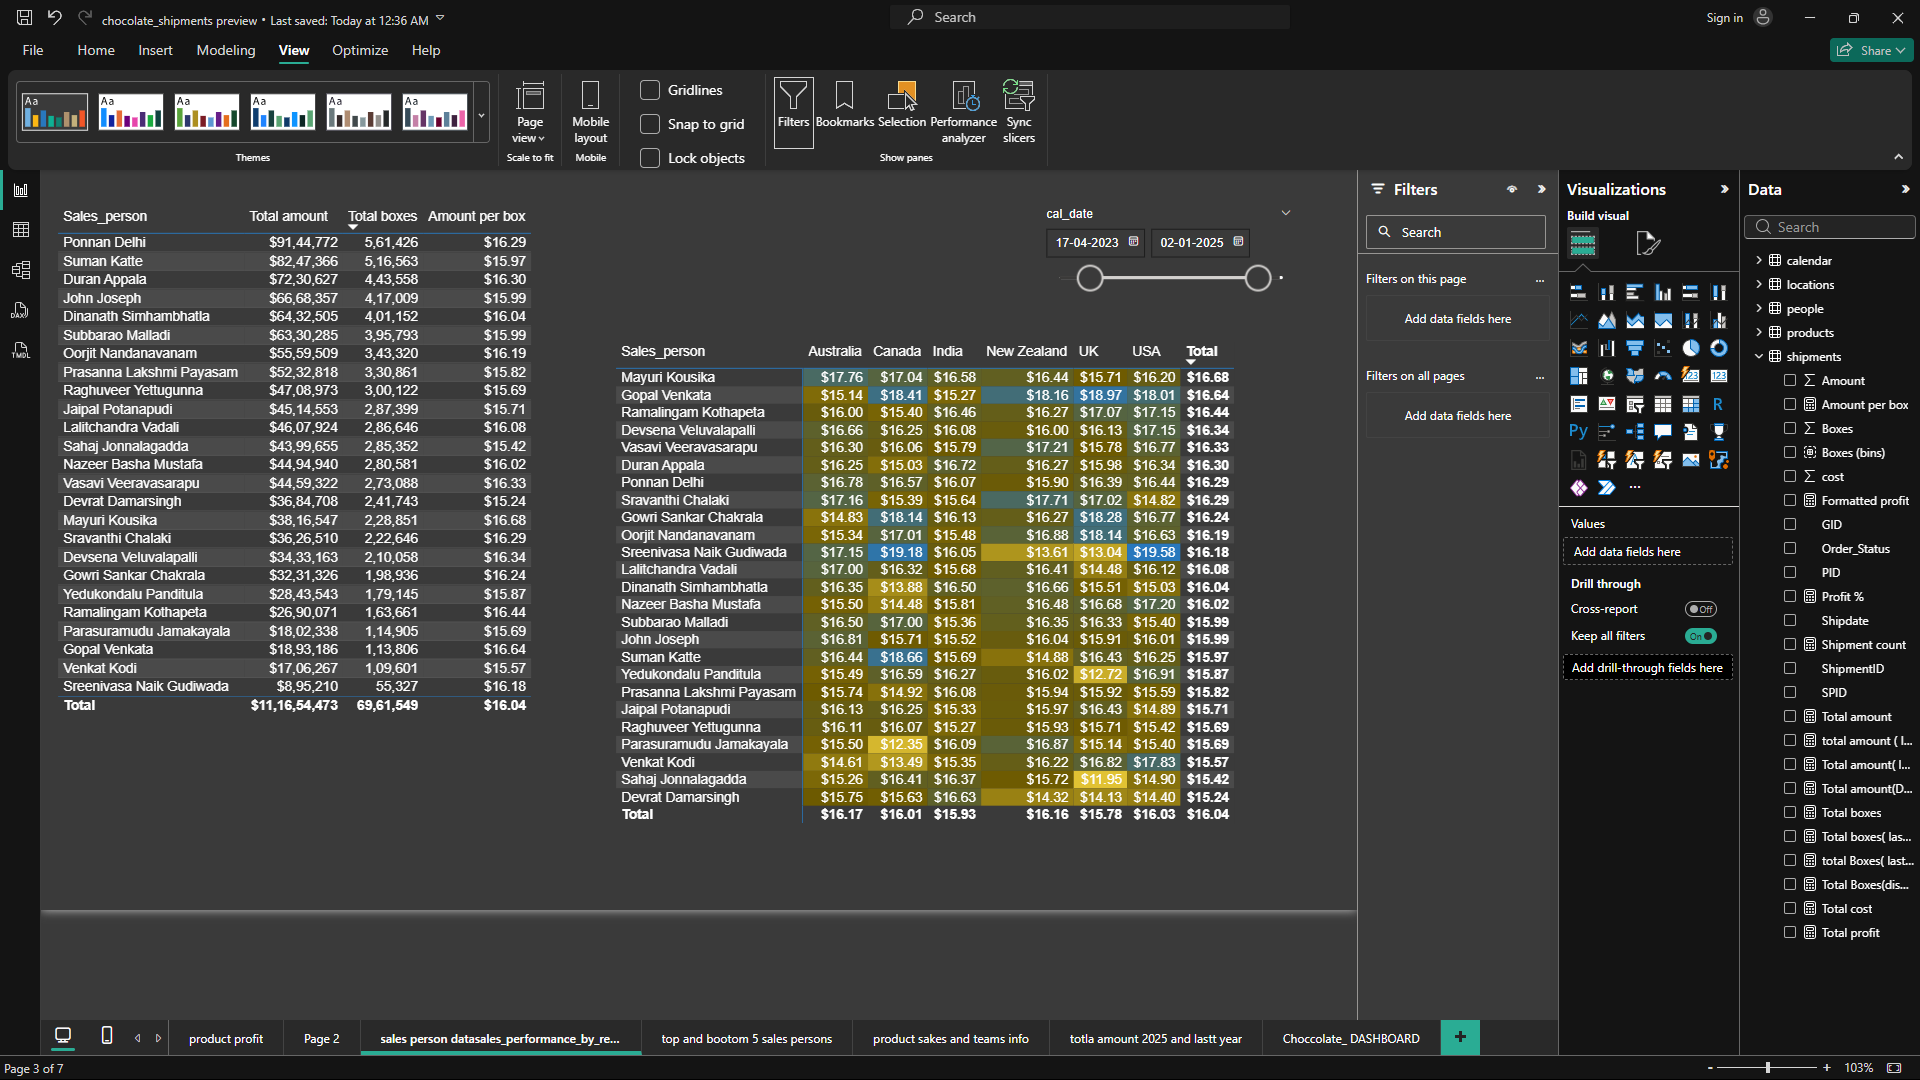

This screenshot's page, from the dashboard's own definition file:
{"tool":"powerbi","page":{"name":"Page 3","canvas":[1280,720],"ordinal":2},"visuals":[{"type":"tableEx","fields":{"Values":["people.Sales_person","shipments.Total amount","shipments.totoal boxes","shipments.Amount per box"]},"box":[10.7,31.1,524.3,508.7],"z":0},{"type":"pivotTable","fields":{"Rows":["people.Sales_person"],"Columns":["locations.Geo"],"Values":["shipments.Amount per box"]},"box":[541.8,31.1,463,524.3],"z":1000},{"type":"slicer","fields":{"Values":["calendar.cal_date"]},"box":[1041.7,67.1,238.3,170.2],"z":2000}]}

Visuals, with their boxes on the page's 1280x720 design canvas (x1, y1, x2, y2). These are canvas units, not pixel positions in the 1920x1080 screenshot, which may show the page scaled, cropped or inside an application window:
tableEx - people.Sales_person x shipments.Total amount: Rect(11, 31, 535, 540)
pivotTable - people.Sales_person x locations.Geo: Rect(542, 31, 1005, 555)
slicer - calendar.cal_date: Rect(1042, 67, 1280, 237)
